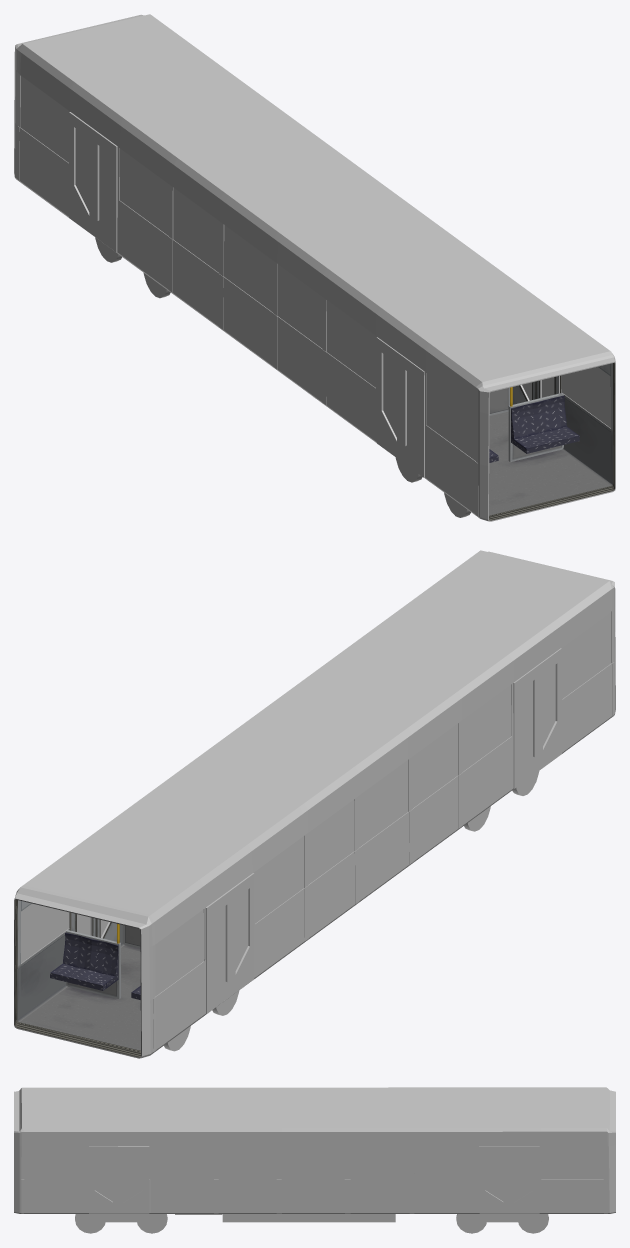
The model's file is TrainTexturedReady.fbx.
The picture shows the model from 3 angles, top to bottom: view 1: azimuth 30°, elevation 25°; view 2: azimuth 150°, elevation 25°; view 3: azimuth 270°, elevation 25°; orthographic projection. The views are drawn at different scales.
Visible parts, largest first — view 1: train.001; view 2: train.001; view 3: train.001.
Part boxes in pixels (x1=…): train.001: x1=14, y1=14, x2=615, y2=521; train.001: x1=14, y1=550, x2=615, y2=1058; train.001: x1=14, y1=1087, x2=615, y2=1233.
Bounding box in the file's own units: 270 × 338 × 1599.
